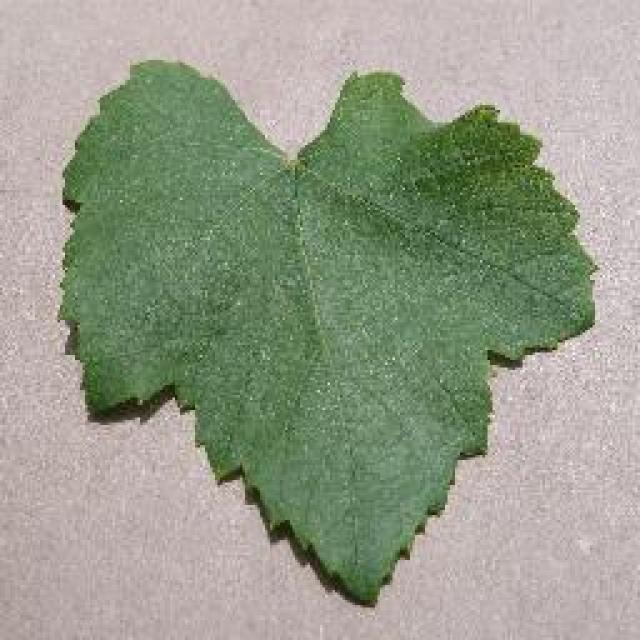Grape___healthy: (62, 62, 592, 600)
